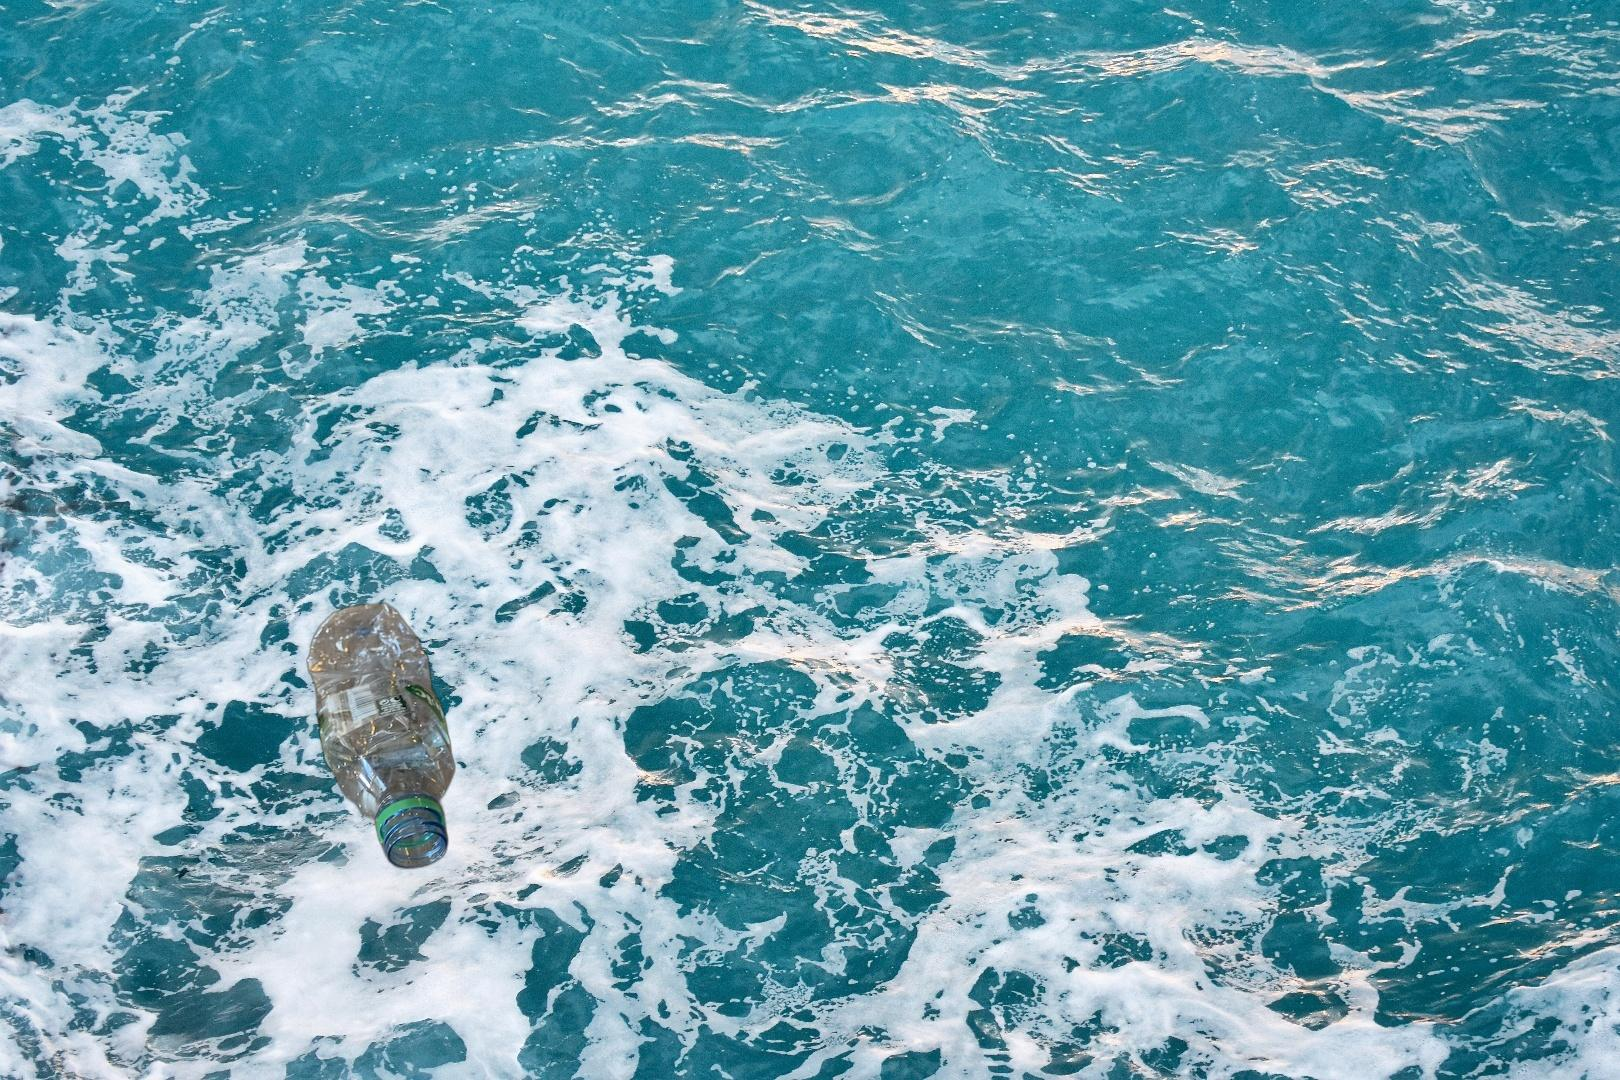plastic-bottles: (304, 598, 458, 874)
